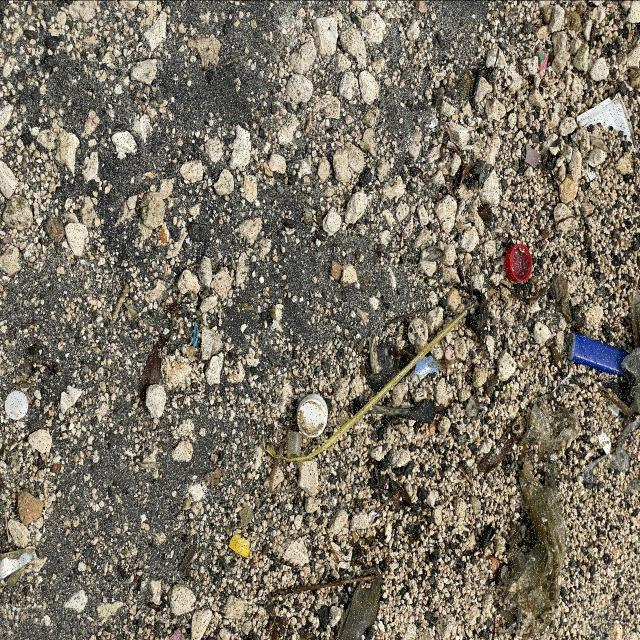plastic_waste: (330, 309, 469, 448), (297, 397, 329, 438), (505, 245, 534, 285)
